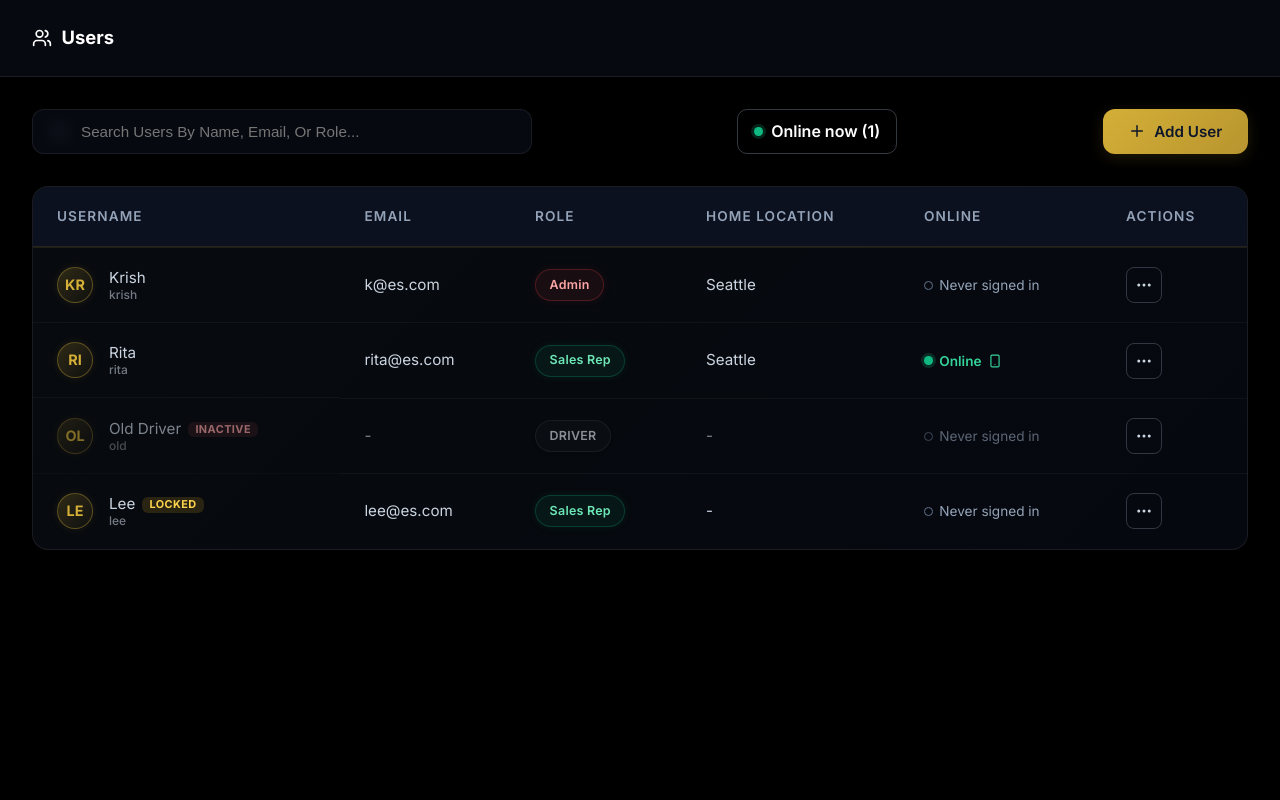
Test: Users & Roles › opens Add user
Click the button with class "add-user-btn": [1175, 131] box top-left (1103, 109), bottom-right (1248, 154)
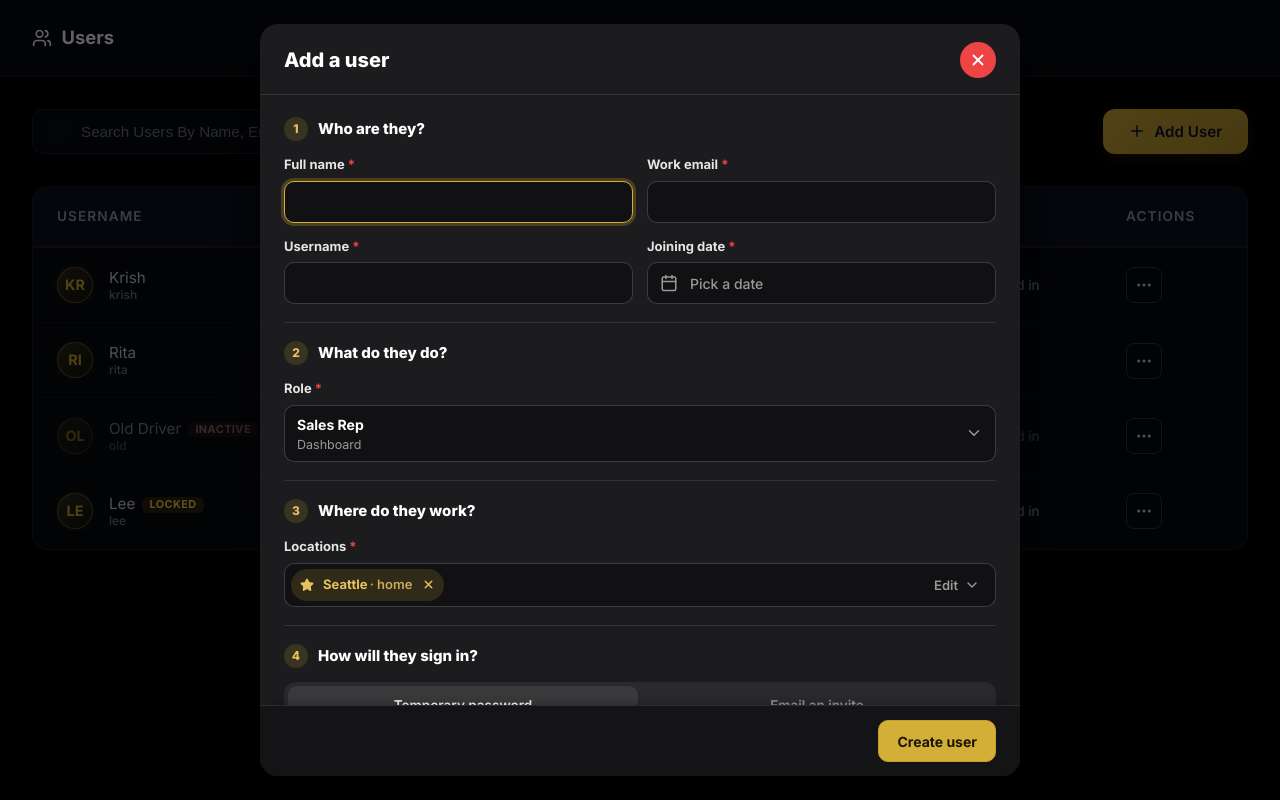
Expected: the heading "Add a user" is shown, top-left (284, 48), bottom-right (389, 72)
